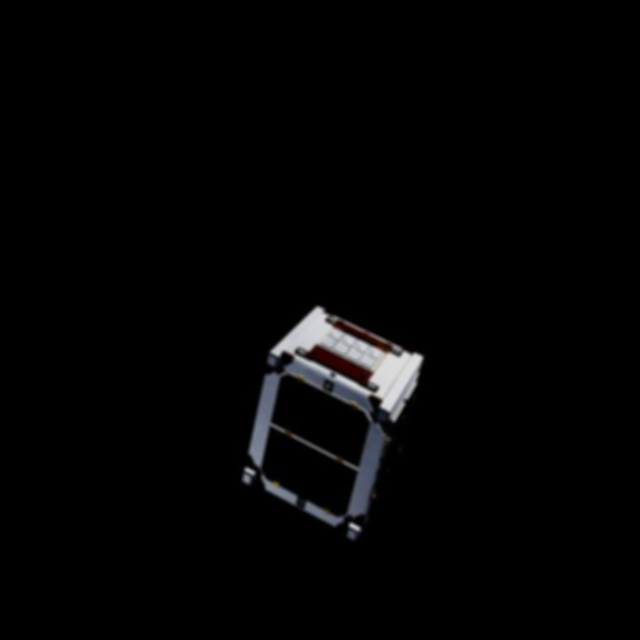satellite: (220, 293, 458, 554)
